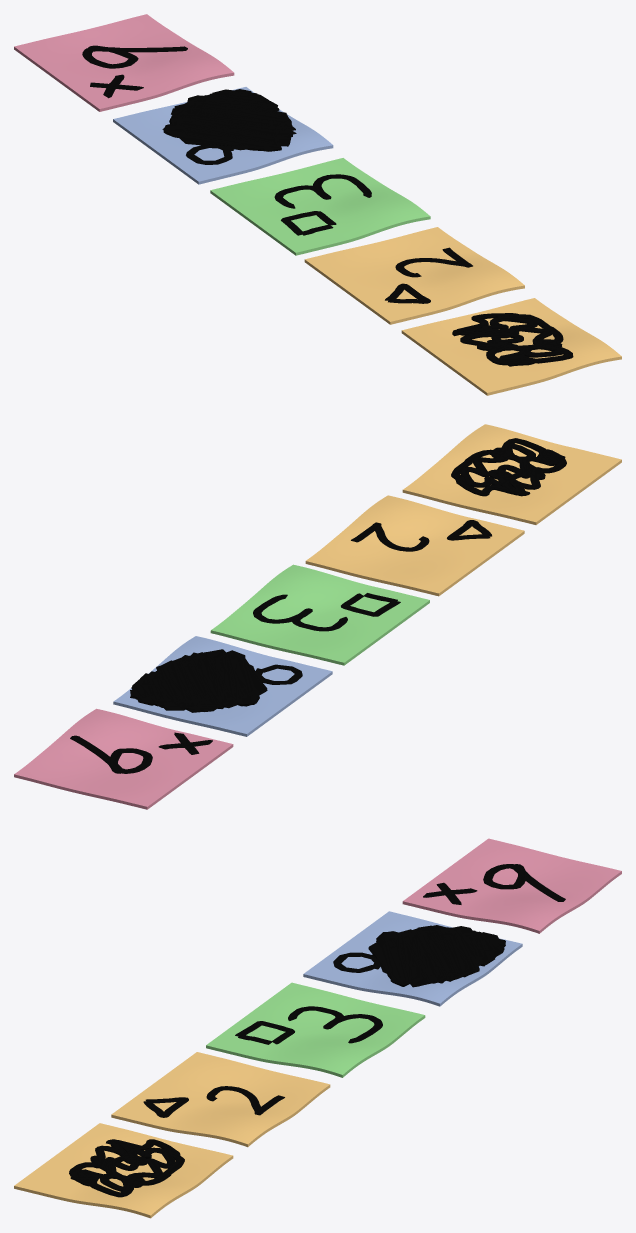
Rendered from fusen.fbx.
3 views of the same model, one above another, from view 1: azimuth 30°, elevation 25°; view 2: azimuth 150°, elevation 25°; view 3: azimuth 330°, elevation 25° (orthographic).
Parts seen in each view (by area): view 1: Cube, Cube.003, Cube.001, Cube.004, Lines.003, Cube.002, Lines, Lines.002, Lines.004, Lines.001; view 2: Cube, Cube.003, Cube.001, Cube.004, Lines.003, Cube.002, Lines, Lines.002, Lines.004, Lines.001; view 3: Cube, Cube.003, Cube.001, Cube.004, Lines.003, Cube.002, Lines, Lines.002, Lines.004, Lines.001.
Boxes of the visible parts, x1,y1,x2,y2 form: Cube: (304, 227, 524, 324); Cube.003: (14, 14, 234, 111); Cube.001: (210, 158, 430, 255); Cube.004: (401, 298, 621, 395); Lines.003: (162, 89, 296, 164); Cube.002: (113, 87, 333, 184); Lines: (452, 313, 573, 366); Lines.002: (274, 174, 371, 235); Lines.004: (82, 45, 187, 98); Lines.001: (385, 247, 472, 303); Cube: (305, 495, 524, 596); Cube.003: (14, 708, 233, 809); Cube.001: (210, 564, 429, 665); Cube.004: (402, 424, 621, 524); Lines.003: (130, 649, 302, 712); Cube.002: (113, 636, 332, 736); Lines: (451, 438, 566, 496); Lines.002: (253, 593, 400, 631); Lines.004: (70, 732, 212, 773); Lines.001: (351, 520, 491, 551); Cube: (111, 1052, 330, 1147); Cube.003: (402, 838, 621, 933); Cube.001: (206, 982, 425, 1077); Cube.004: (14, 1123, 233, 1218); Lines.003: (333, 925, 505, 987); Cube.002: (303, 911, 522, 1006); Lines: (69, 1139, 184, 1197); Lines.002: (235, 1006, 382, 1044); Lines.004: (423, 864, 565, 904); Lines.001: (143, 1086, 284, 1117).
Bounding box in the file's own units: 6.84 × 0.536 × 41.34.
